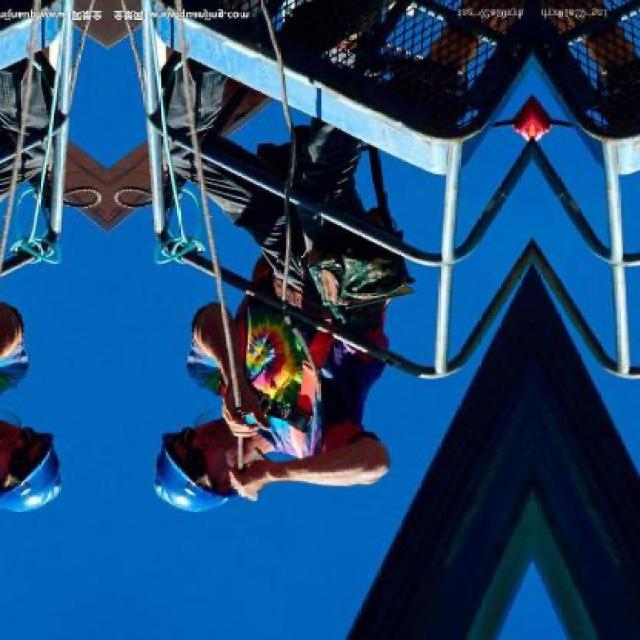con casco: (124, 400, 280, 536)
